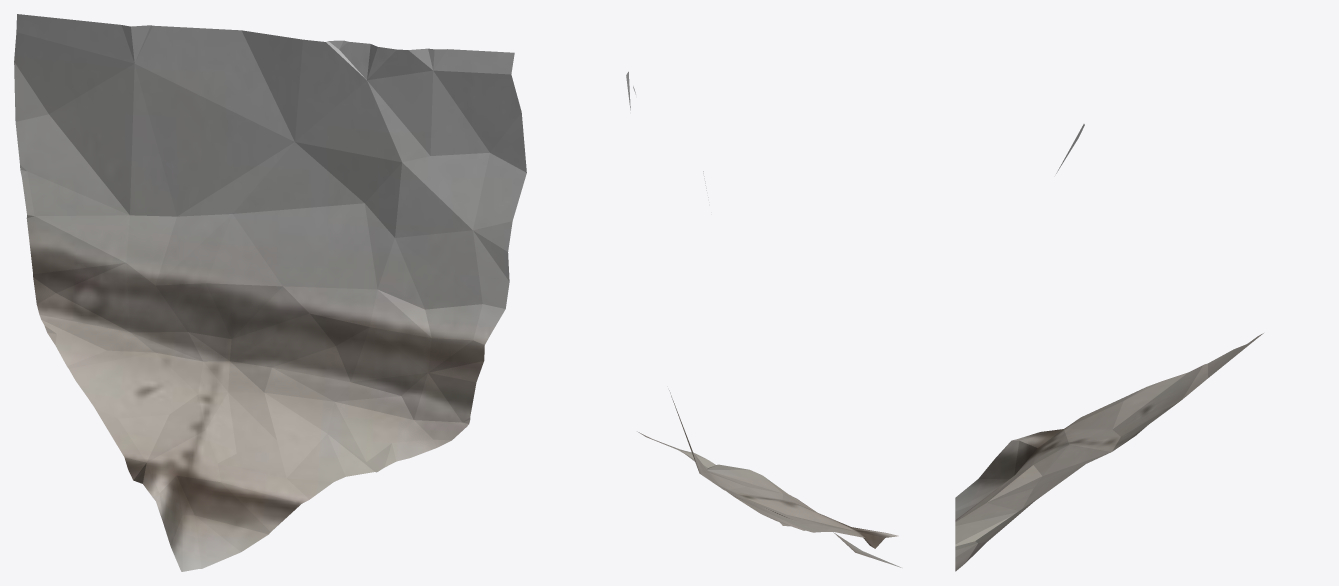
The picture shows the model from 3 angles, left to right: view 1: azimuth 30°, elevation 25°; view 2: azimuth 150°, elevation 25°; view 3: azimuth 270°, elevation 25°; orthographic projection. The views are drawn at different scales.
Bounding box in the file's own units: 0.3983 × 0.4843 × 0.3335.
Materials: 1 (1 with a texture image).
